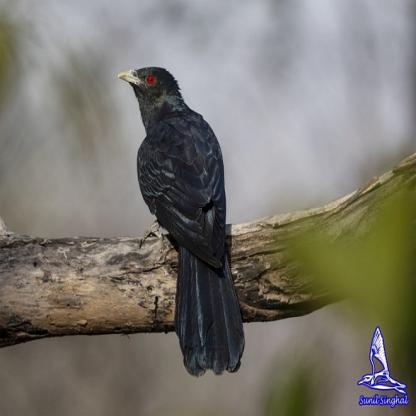Burung: (117, 66, 244, 376)
